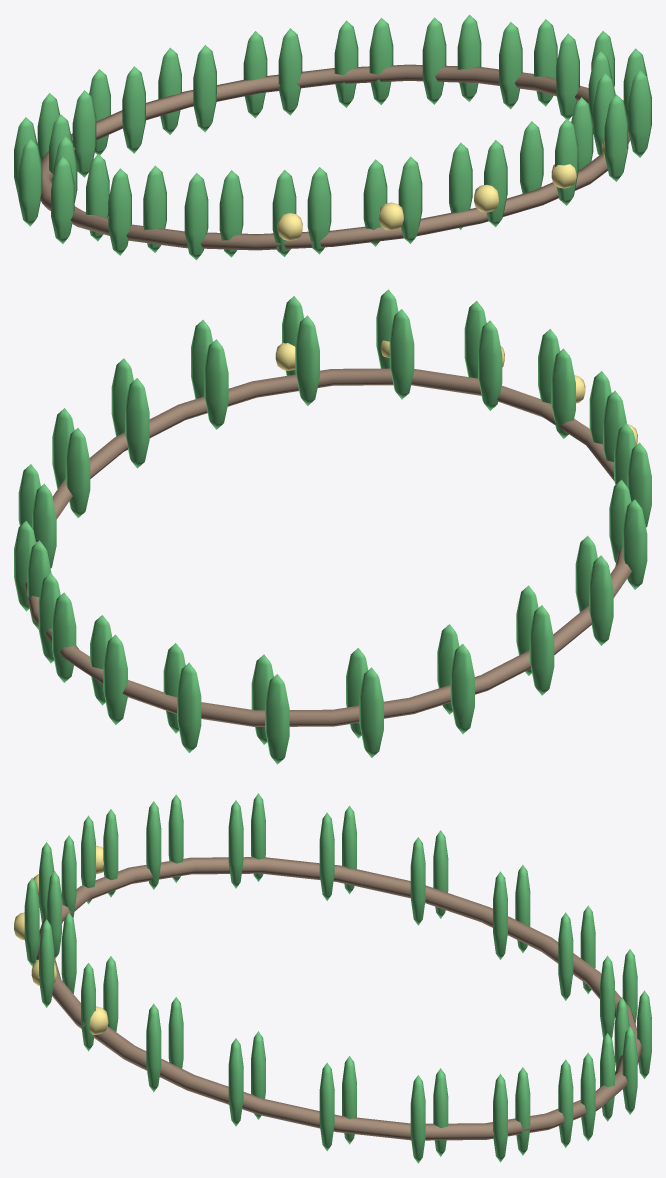
File: laurel_crown.glb
3 views of the same model, one above another, from view 1: azimuth 30°, elevation 25°; view 2: azimuth 150°, elevation 25°; view 3: azimuth 270°, elevation 25° (orthographic). The views are drawn at different scales.
Bounding box in the file's own units: 1.16 × 0.4208 × 1.14.
